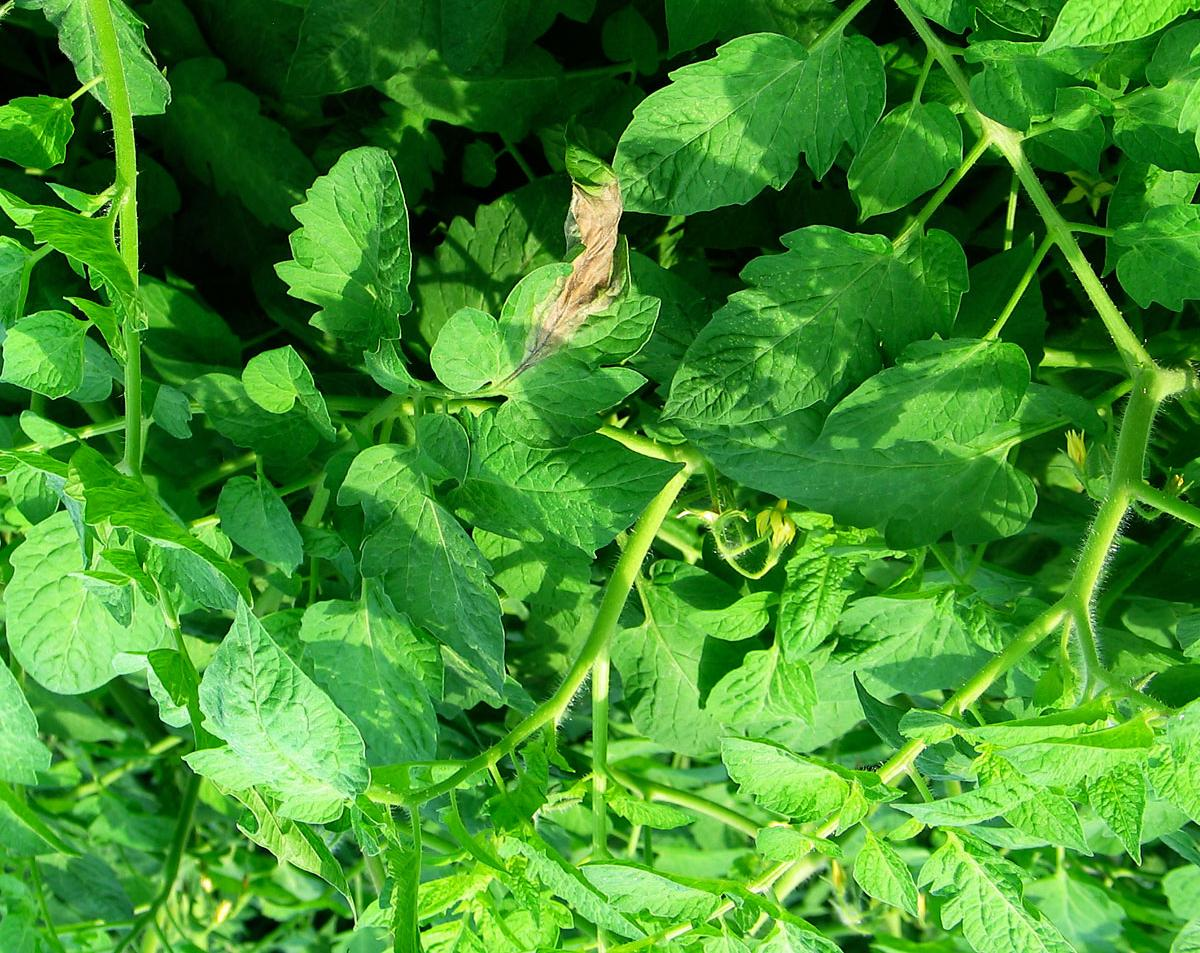Tomato leaf late blight: (661, 190, 966, 438), (335, 411, 529, 713), (605, 23, 894, 204), (442, 204, 657, 419), (270, 136, 419, 381), (294, 545, 439, 796), (832, 314, 1022, 477), (12, 511, 158, 704), (840, 94, 970, 226), (706, 739, 874, 812)
